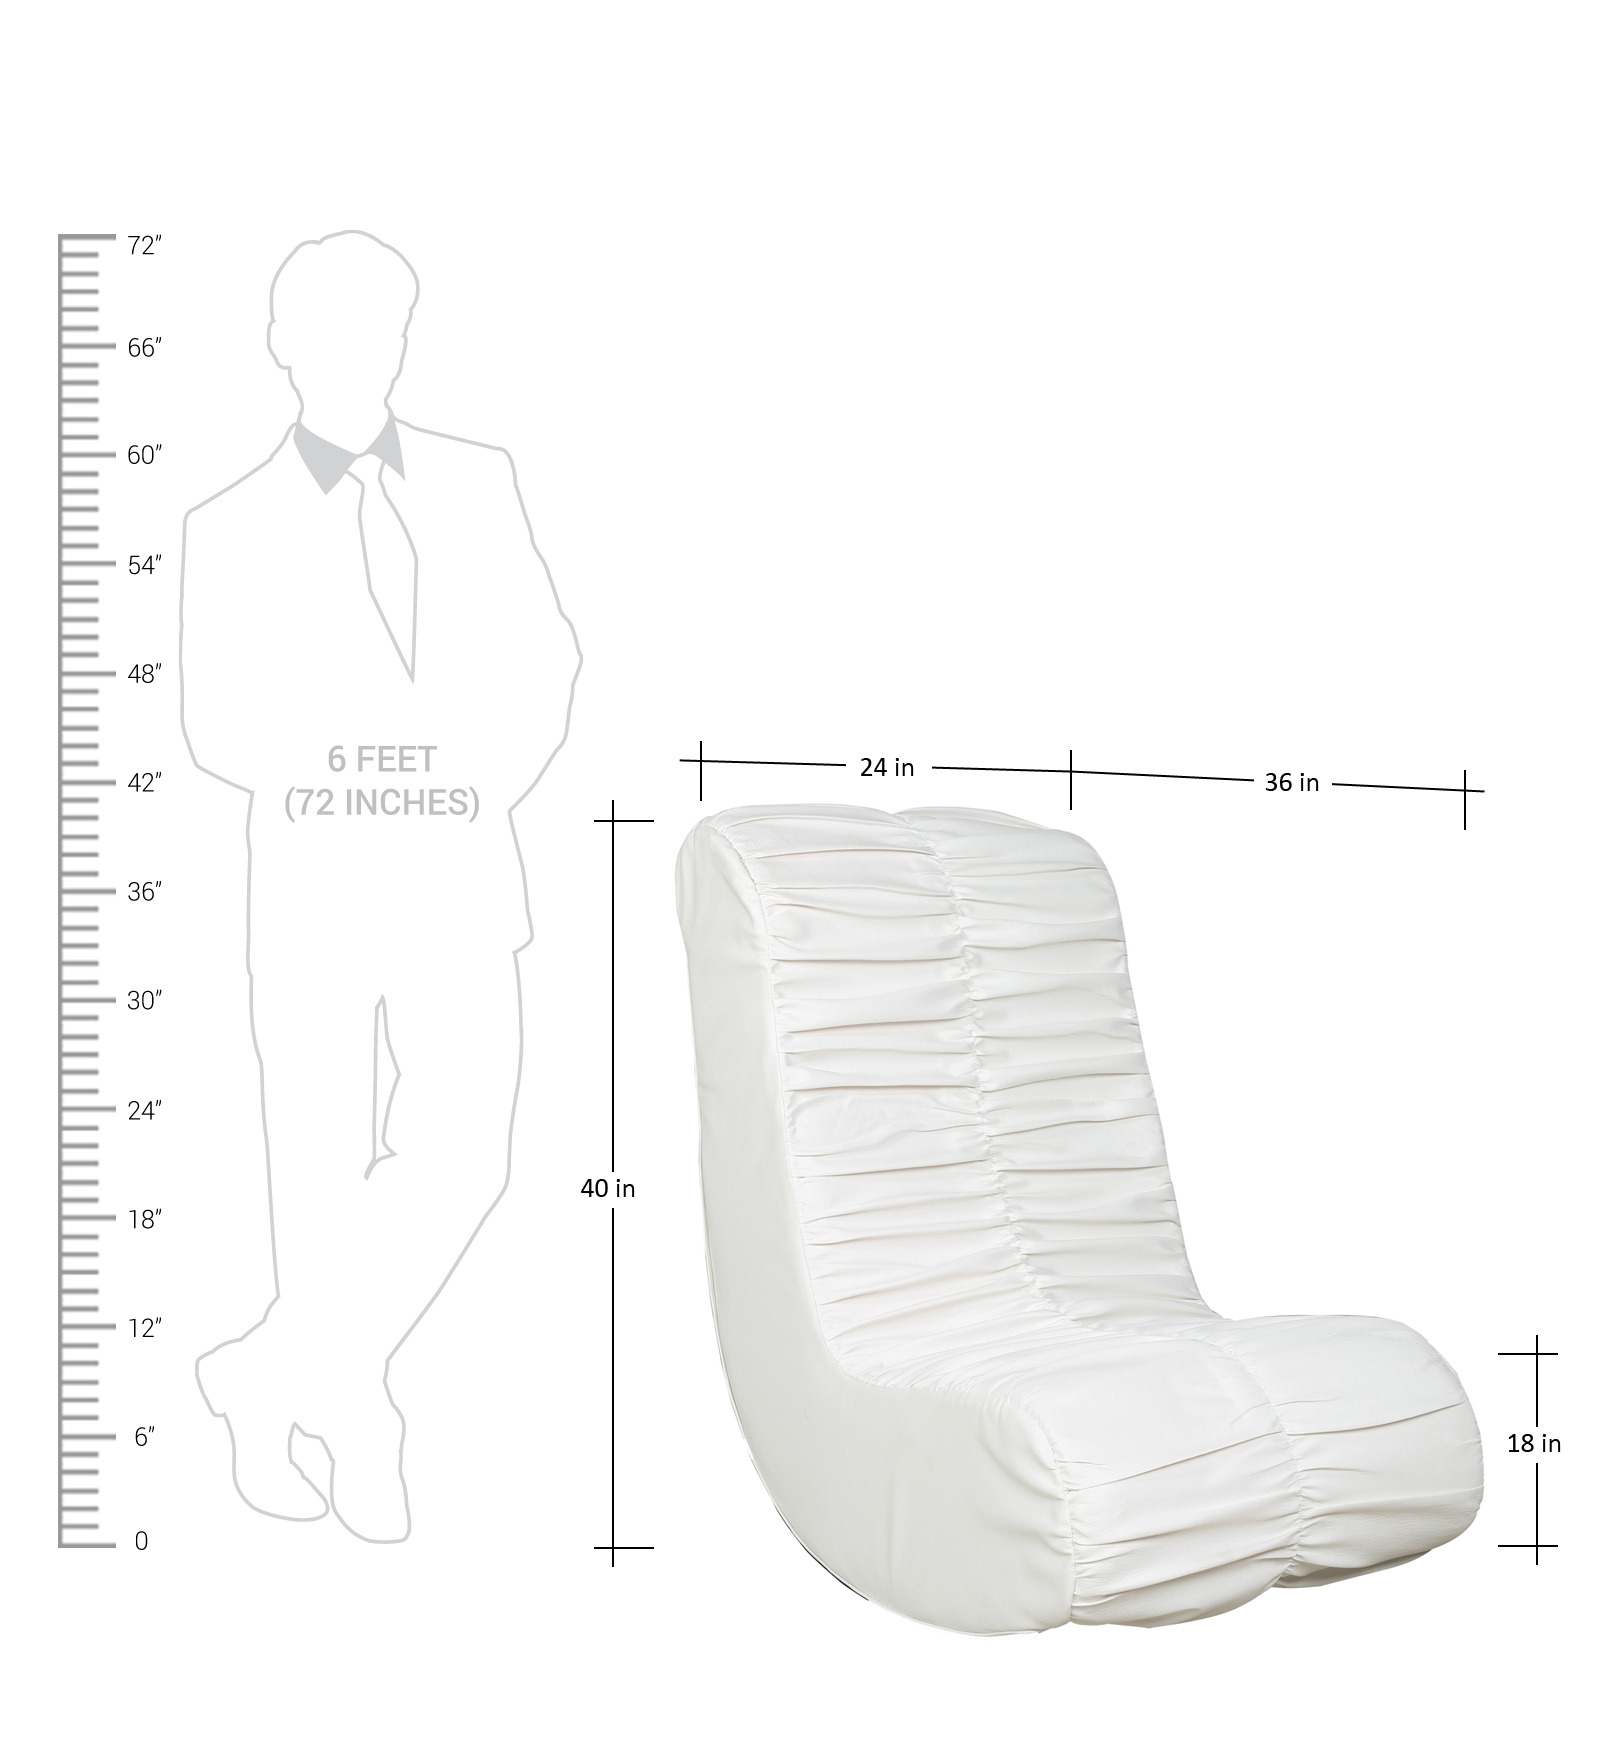Daisy Rocking Chair in White Colour by Parin: (651, 782, 1484, 1642)
